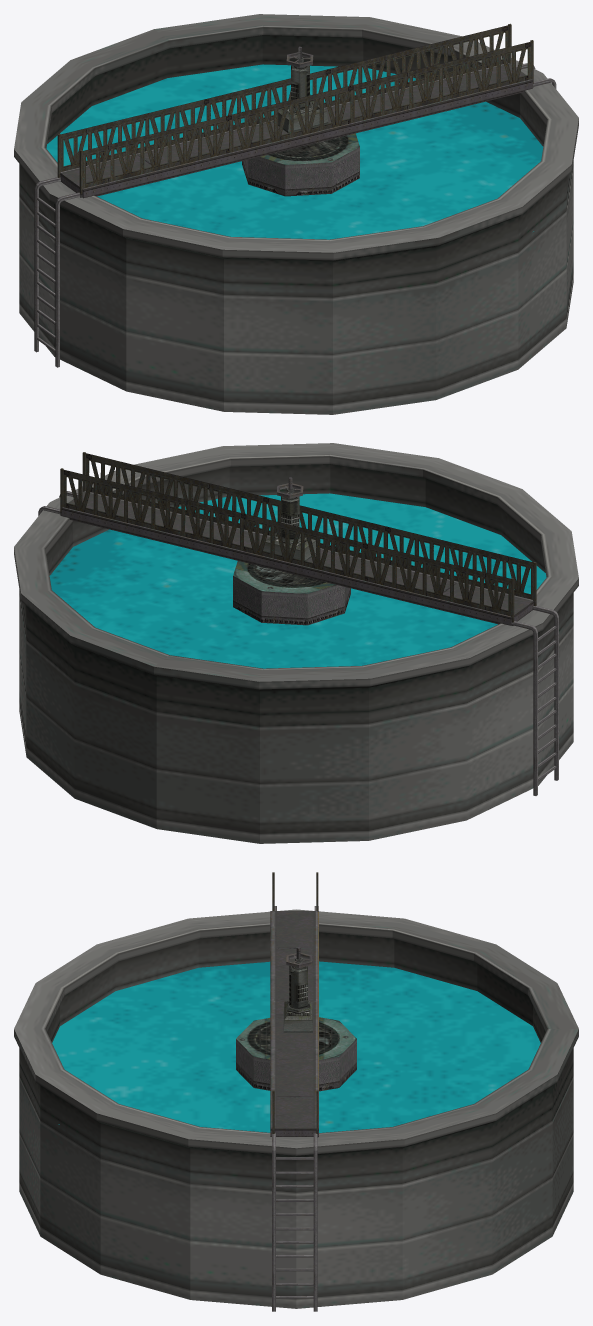
The model's file is sedimentation_01.obj.
3 renders of one model, top to bottom at view 1: azimuth 30°, elevation 25°; view 2: azimuth 150°, elevation 25°; view 3: azimuth 270°, elevation 25°, orthographic.
Parts seen in each view (by area): view 1: Cylinder034; view 2: Cylinder034; view 3: Cylinder034.
Boxes of the visible parts, left/top/right/bottom form: Cylinder034: left=14, top=14, right=578, bottom=414; Cylinder034: left=14, top=443, right=578, bottom=843; Cylinder034: left=14, top=872, right=578, bottom=1311.
Size of the model in its own units: 37.07 by 17.67 by 36.7.
